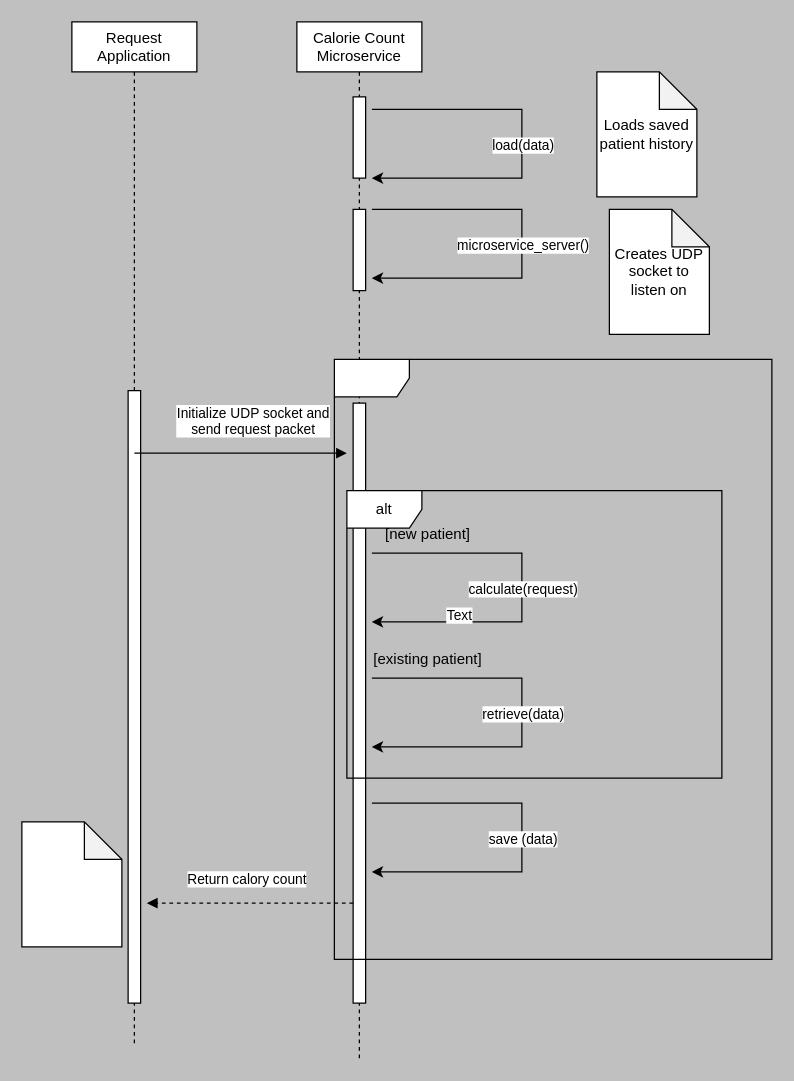
This 794x1081 diagram has some shape labels left out. Here are the shapes that lost their labels. From the top down, the box of each, then its label:
(333, 358, 772, 959): loop
(21, 821, 122, 947): Client UDP socket closed
